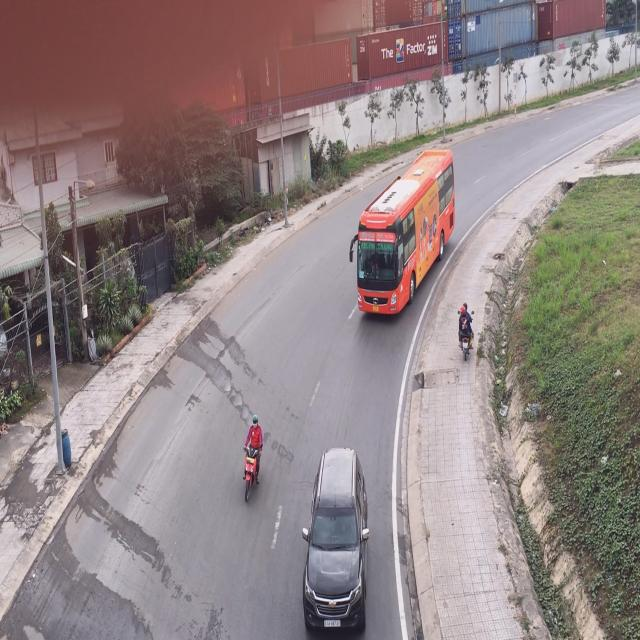bus: (350, 146, 453, 318)
car: (306, 446, 370, 636)
motorbike: (239, 415, 262, 503), (457, 301, 474, 362)
